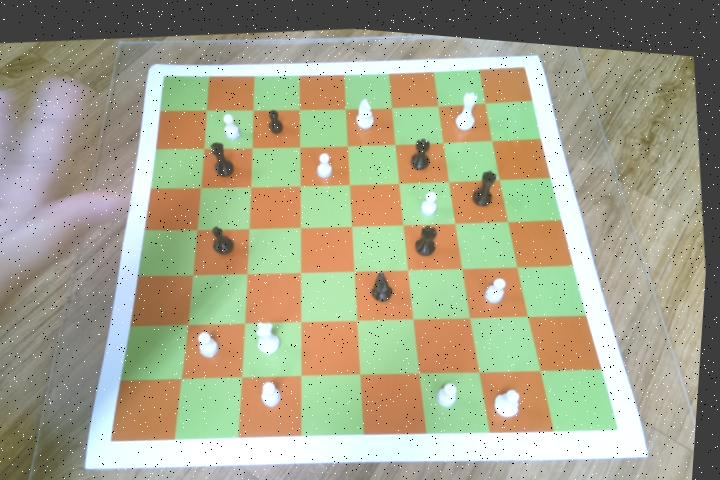chessboard-detect: (114, 57, 622, 437)
